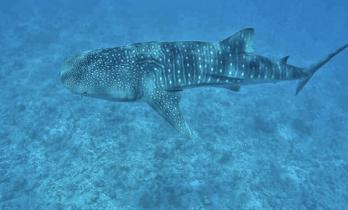Shark -Selachimorpha-: (57, 25, 348, 144)
